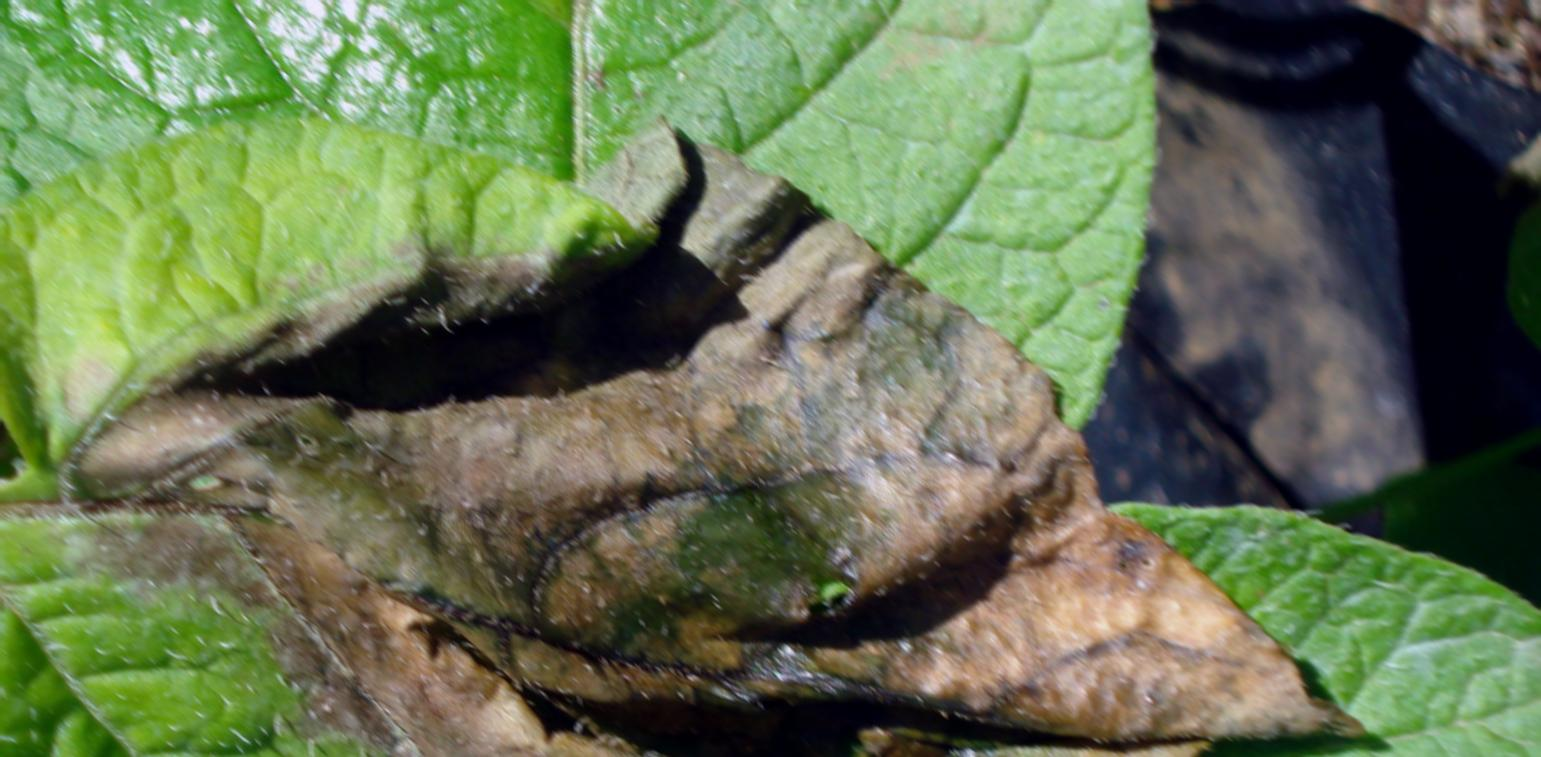Tomato leaf late blight: (0, 67, 1387, 757)
